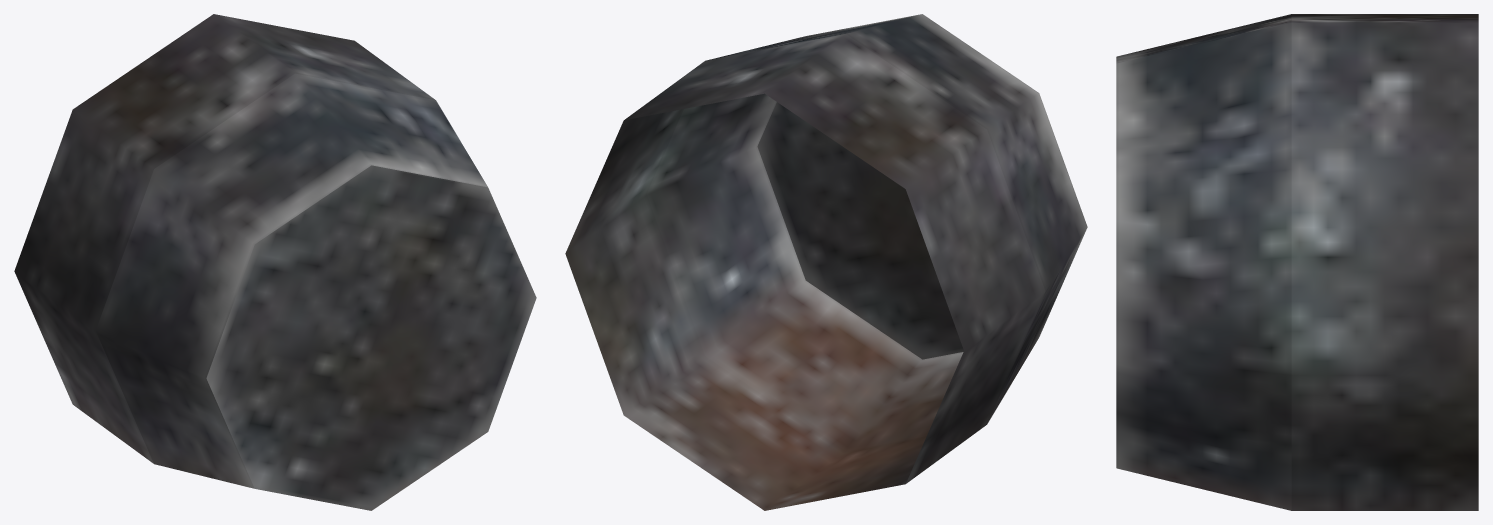
The model's file is NM_ThinTube_Connector_01.fbx.
3 views of the same model, side by side, from view 1: azimuth 30°, elevation 25°; view 2: azimuth 150°, elevation 25°; view 3: azimuth 270°, elevation 25° (orthographic). The views are drawn at different scales.
Visible parts, largest first — view 1: Tube_Connector01_low; view 2: Tube_Connector01_low; view 3: Tube_Connector01_low.
Boxes of the visible parts, bbox=[...] form: Tube_Connector01_low: bbox=[14, 14, 536, 510]; Tube_Connector01_low: bbox=[565, 14, 1087, 510]; Tube_Connector01_low: bbox=[1116, 14, 1478, 510].
Bounding box in the file's own units: 7.41 × 7.41 × 5.08.
